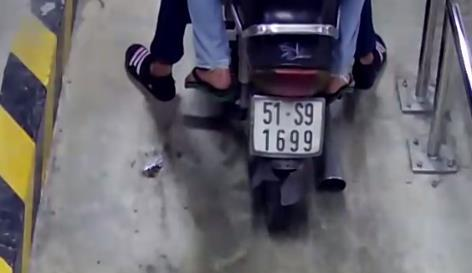lisence: (250, 95, 326, 157)
